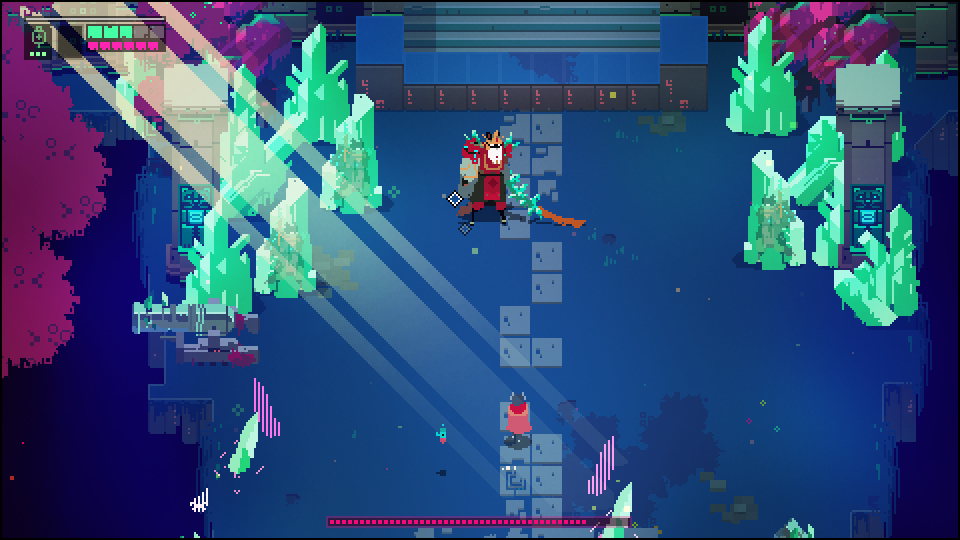hanged_crys: (584, 432, 613, 495)
hanged_man: (449, 125, 548, 236)
player: (505, 386, 532, 442)
